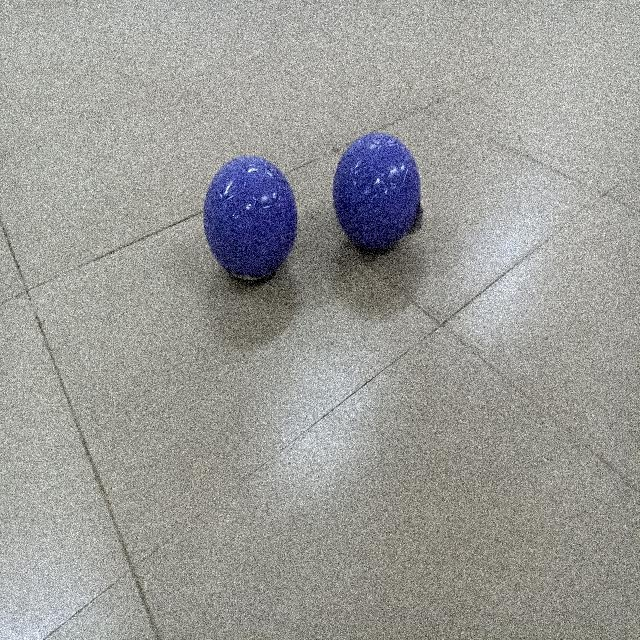purple_ball: (204, 158, 300, 288), (330, 132, 420, 256)
